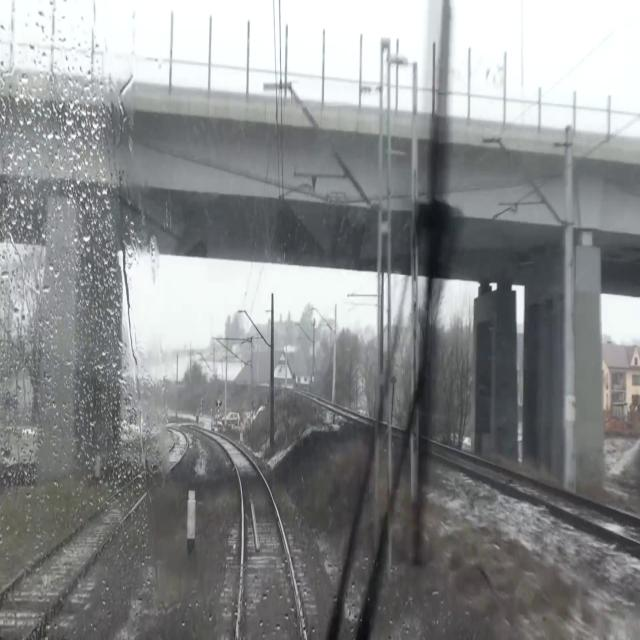rail-track: (2, 433, 185, 634), (226, 444, 302, 639)
